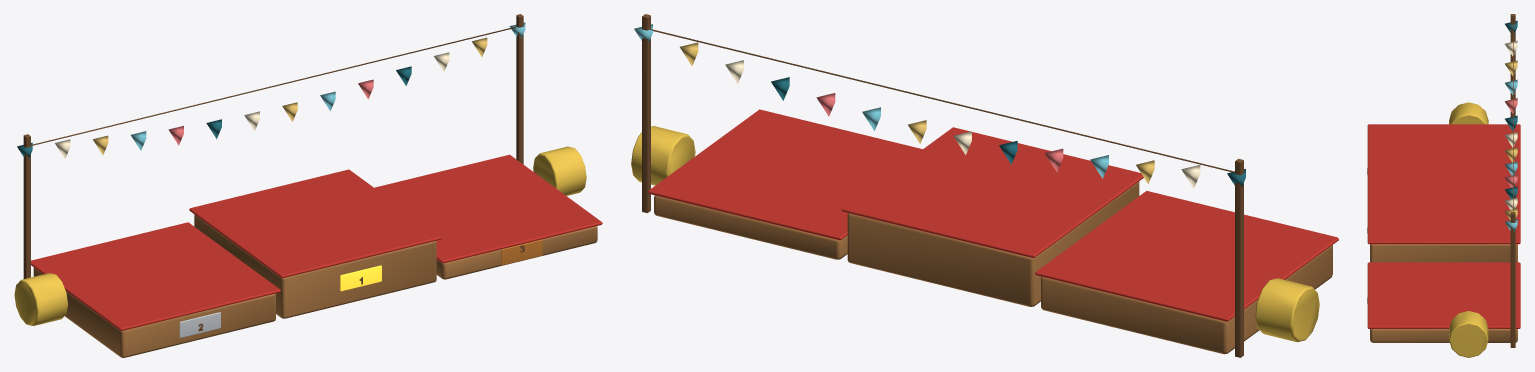
File: podium_mobile.glb
3 views of the same model, side by side, from view 1: azimuth 30°, elevation 25°; view 2: azimuth 150°, elevation 25°; view 3: azimuth 270°, elevation 25° (orthographic). The views are drawn at different scales.
Parts seen in each view (by area): view 1: Podium; view 2: Podium; view 3: Podium.
Part boxes in pixels (x1=…): Podium: x1=14, y1=14, x2=602, y2=357; Podium: x1=631, y1=14, x2=1338, y2=357; Podium: x1=1367, y1=14, x2=1520, y2=357.
Bounding box in the file's own units: 21.2 × 6 × 6.21.
